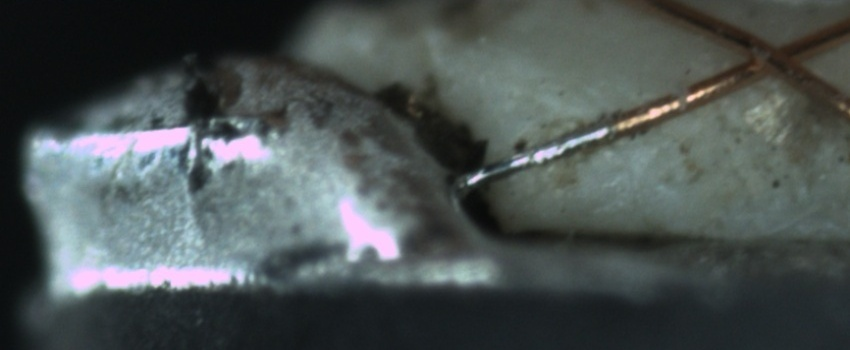CL: (724, 23, 824, 90)
TS: (456, 119, 612, 190)
